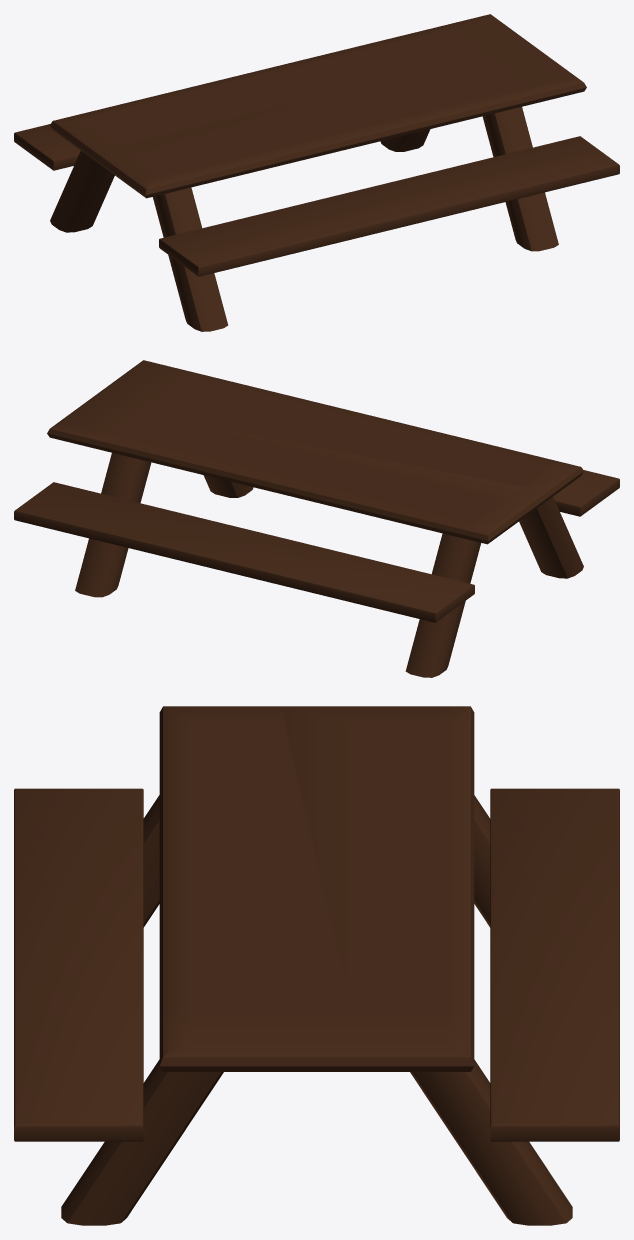
Rendered from Wood_bensjjehe.fbx.
The picture shows the model from 3 angles, top to bottom: view 1: azimuth 30°, elevation 25°; view 2: azimuth 150°, elevation 25°; view 3: azimuth 270°, elevation 25°; orthographic projection. The views are drawn at different scales.
Parts seen in each view (by area): view 1: Cube; view 2: Cube; view 3: Cube.
Boxes of the visible parts, bbox=[...] form: Cube: bbox=[14, 14, 619, 331]; Cube: bbox=[14, 360, 619, 677]; Cube: bbox=[14, 706, 619, 1225].
Bounding box in the file's own units: 493 × 138 × 357.
